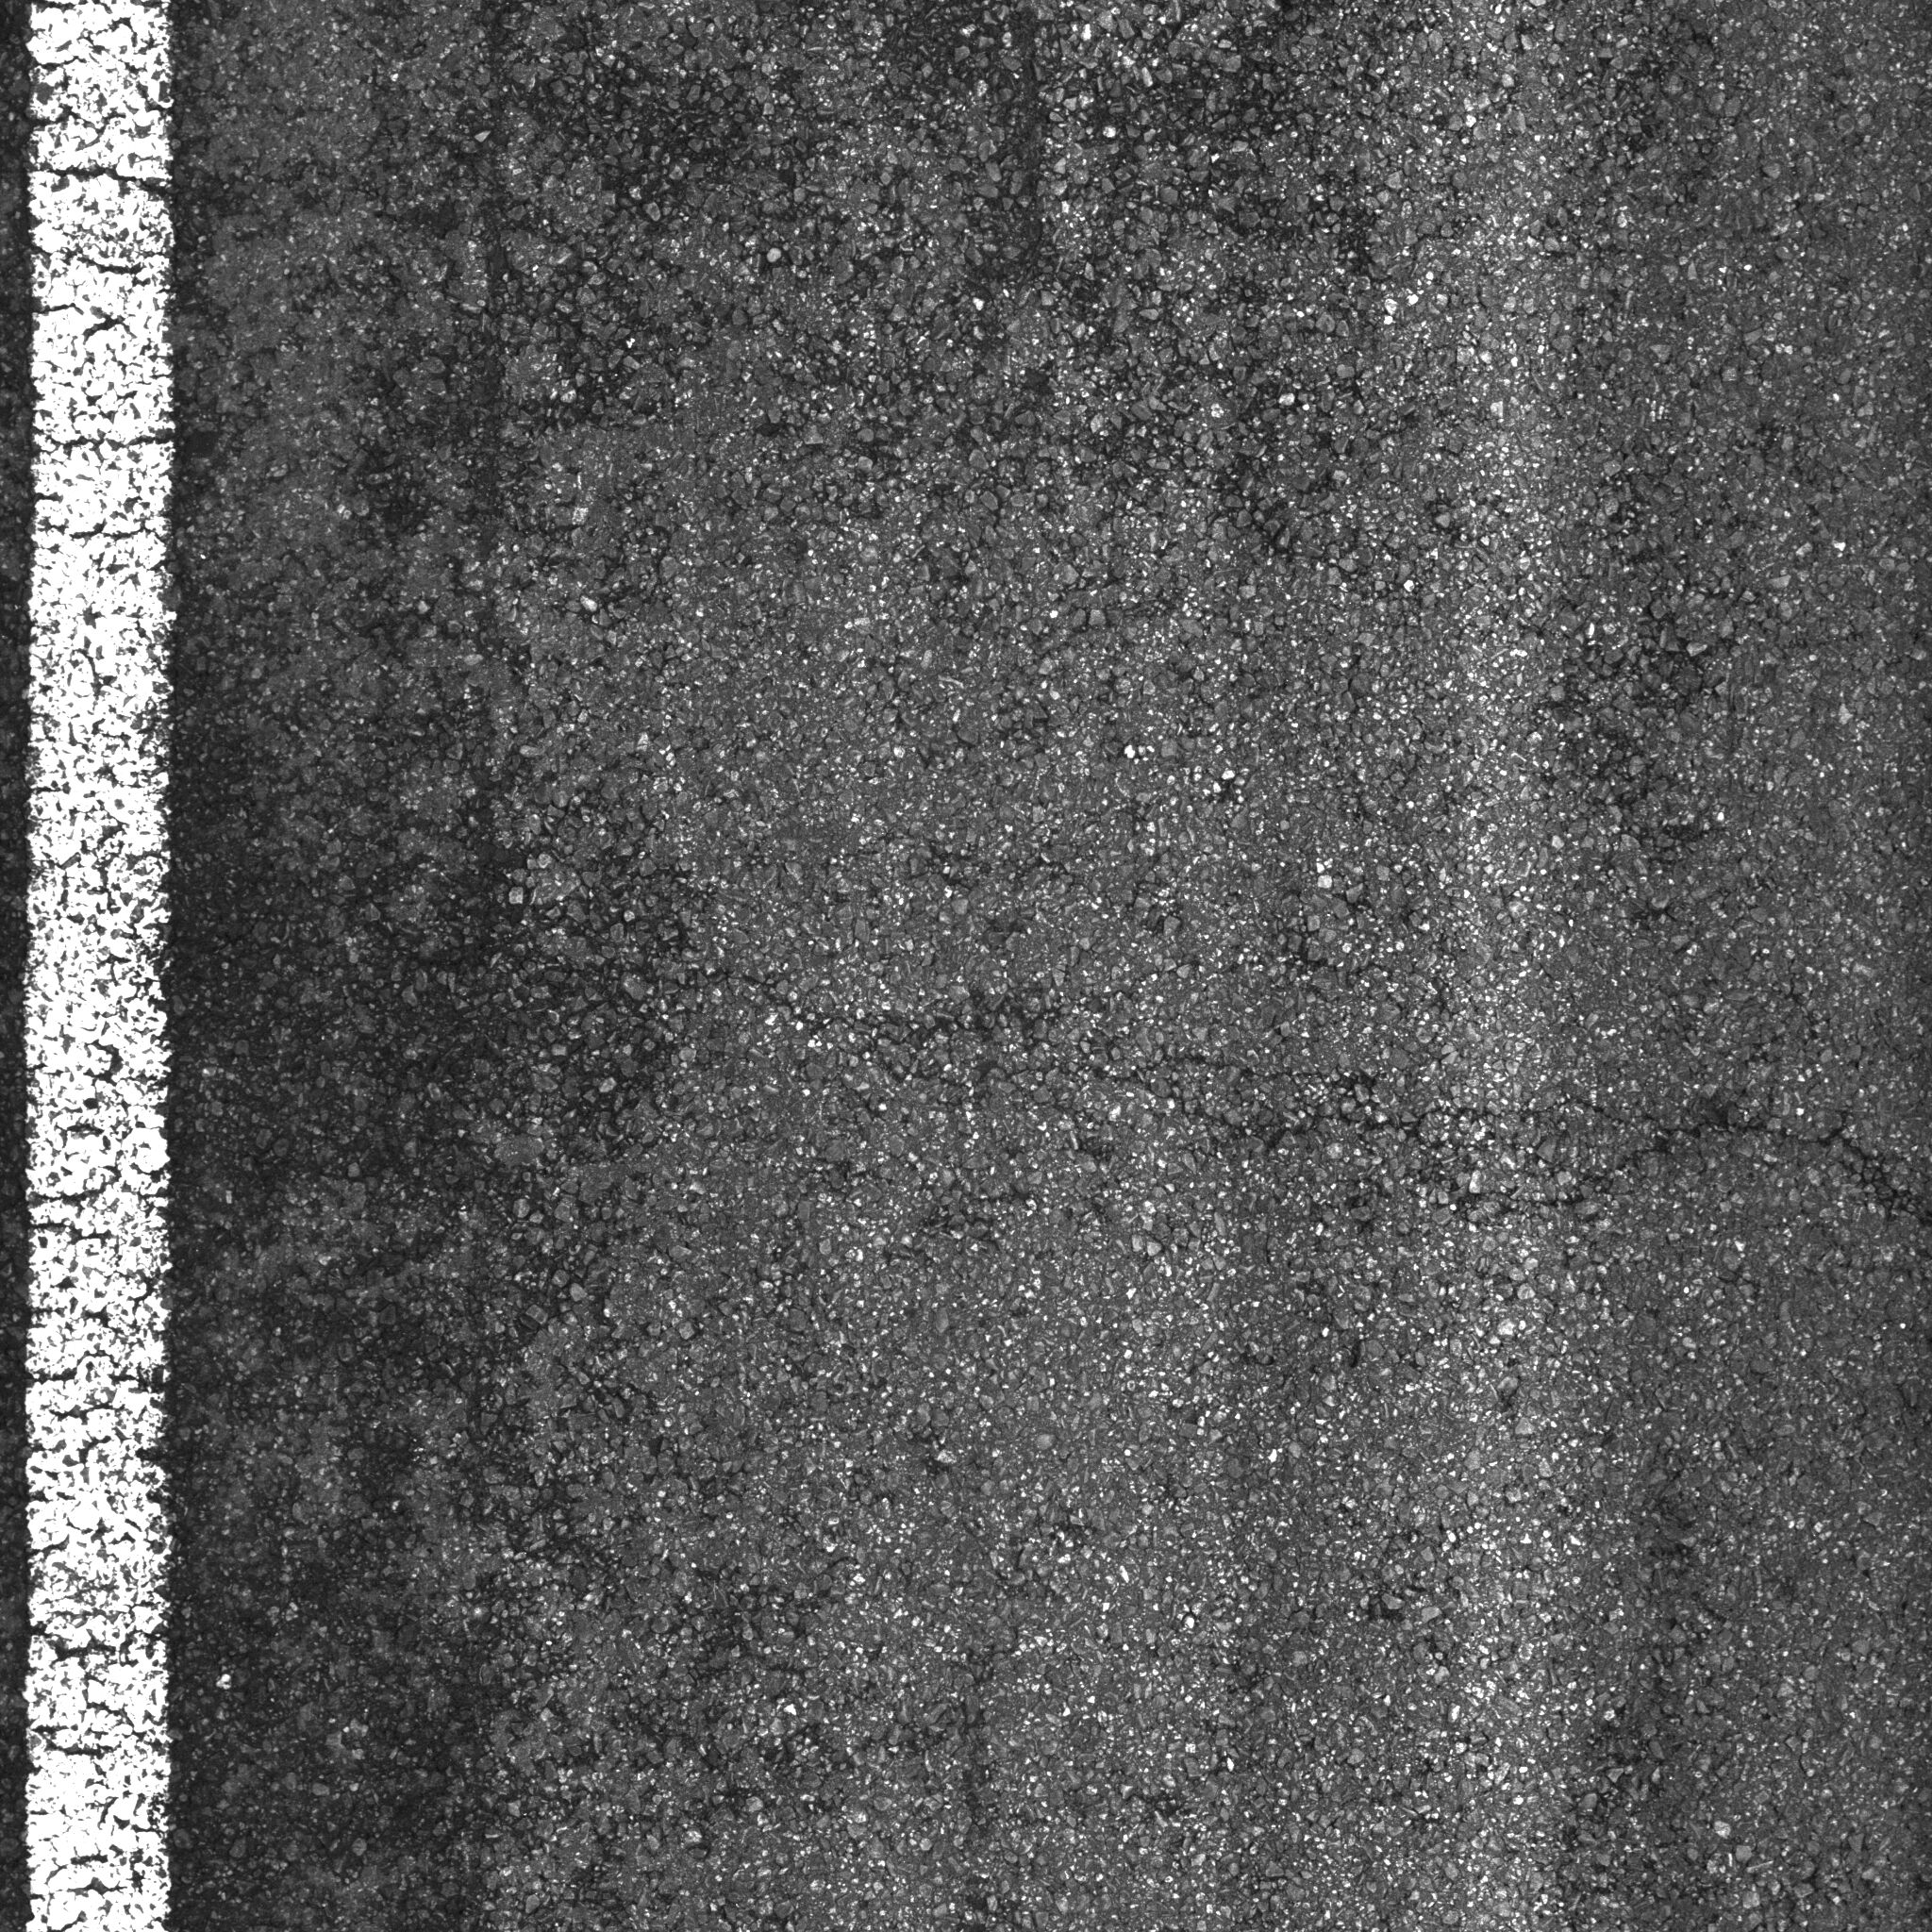transeverse: (584, 934, 1932, 1247)
